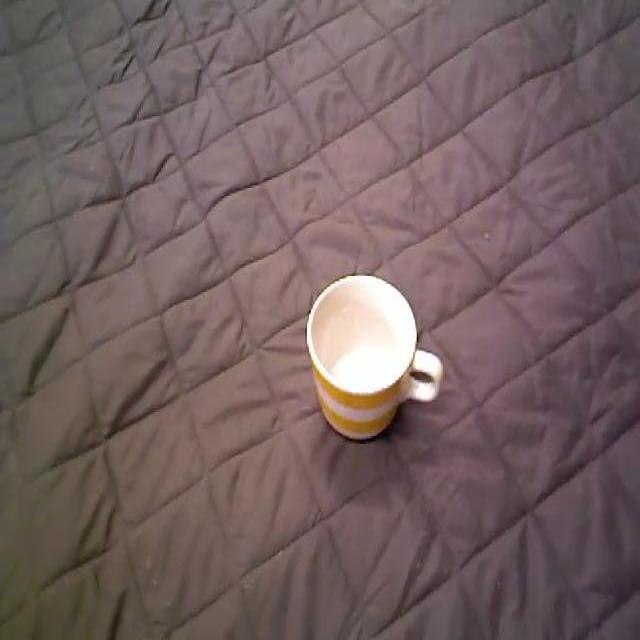cup: (304, 276, 446, 444)
